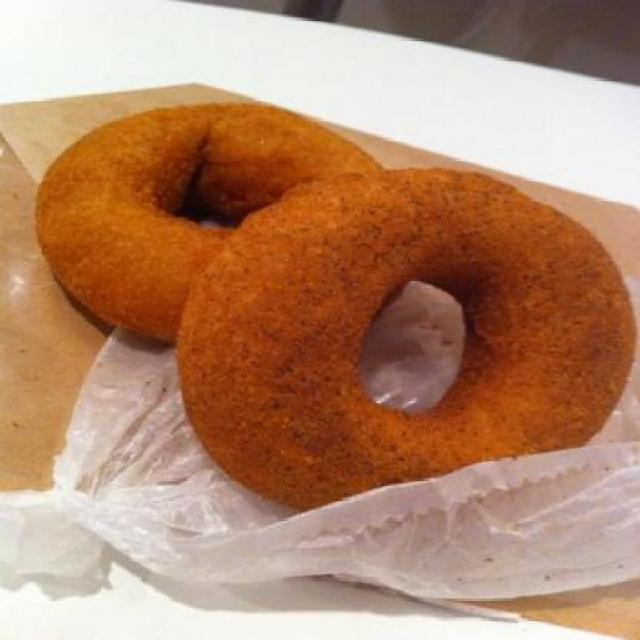Donuts: (36, 89, 638, 532)
